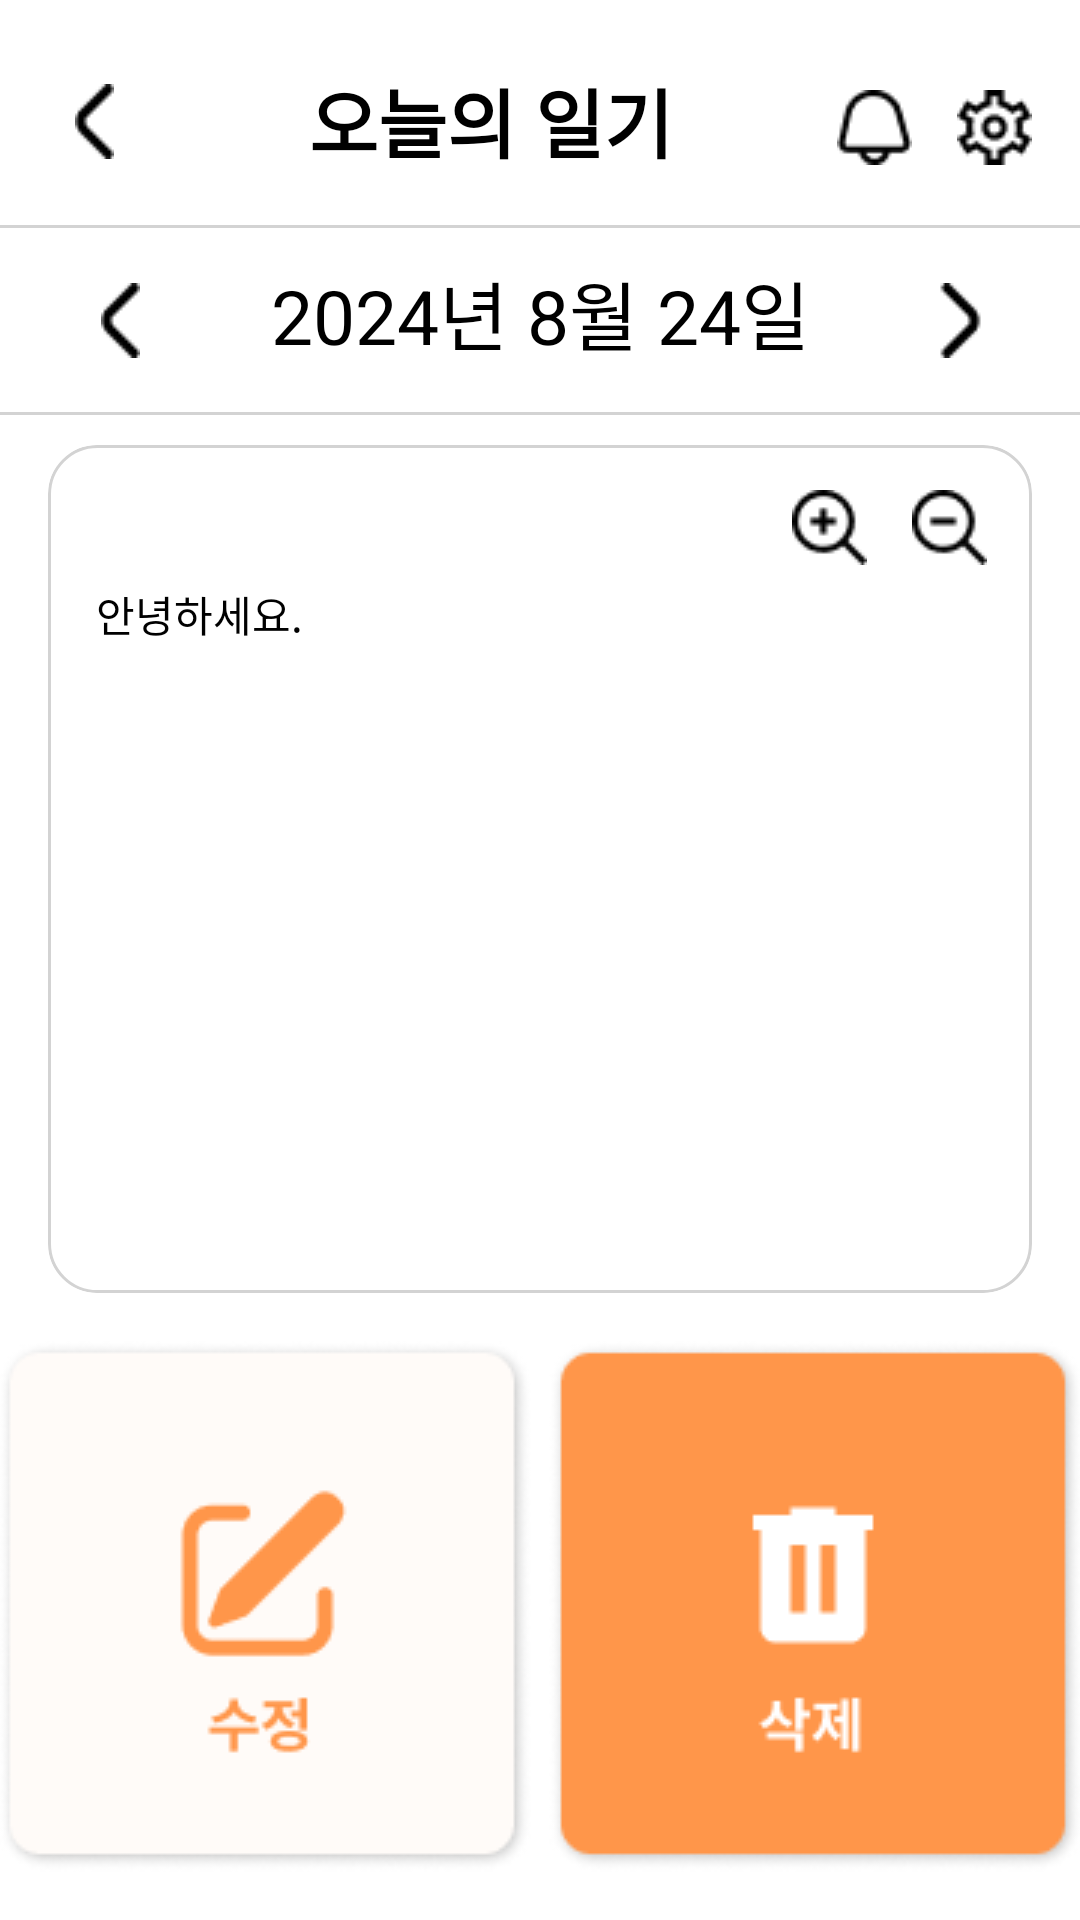

Screen size 1080*1920. Icon name, then its center in pixels as (x=x, y=y):
bell: (x=874, y=127)
left arrow: (x=94, y=121), (x=120, y=320)
right arrow: (x=960, y=320)
setting: (x=994, y=127)
축소: (x=949, y=527)
확대: (x=829, y=527)
